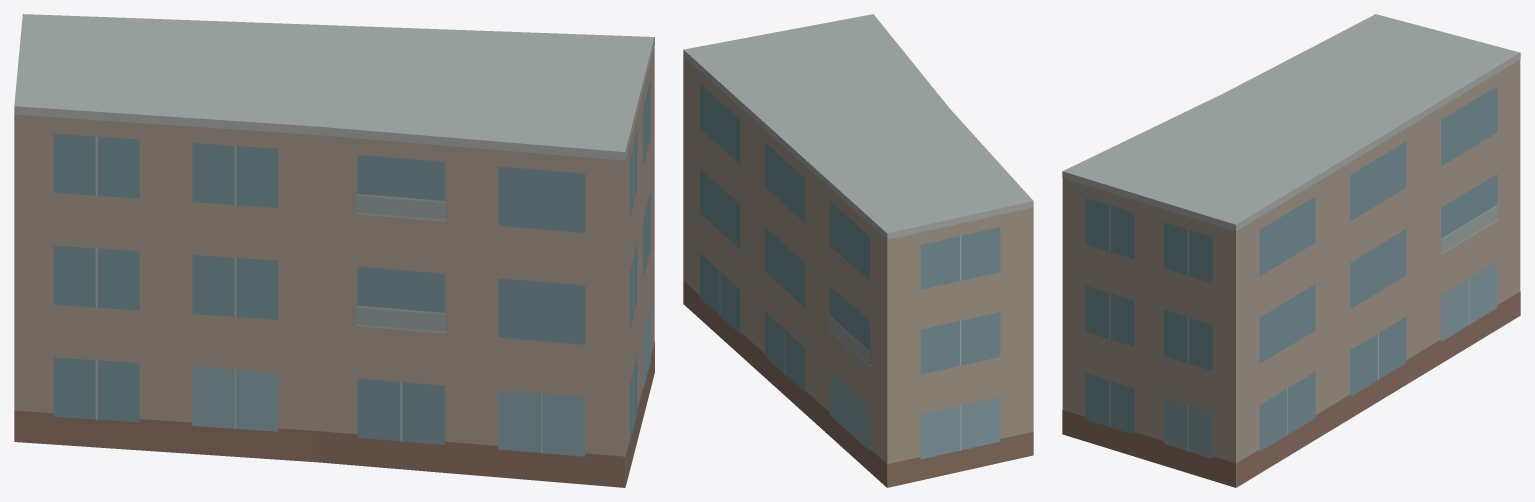
Rendered from survey-upis-32899339.glb.
3 renders of one model, left to right at view 1: azimuth 30°, elevation 25°; view 2: azimuth 150°, elevation 25°; view 3: azimuth 270°, elevation 25°, orthographic. The views are drawn at different scales.
Parts seen in each view (by area): view 1: survey-upis-32899339.tmp; view 2: survey-upis-32899339.tmp; view 3: survey-upis-32899339.tmp.
Part boxes in pixels (<box>): survey-upis-32899339.tmp: <box>14,14,654,487</box>; survey-upis-32899339.tmp: <box>683,14,1033,487</box>; survey-upis-32899339.tmp: <box>1062,14,1520,487</box>.
Size of the model in its own units: 16.68 by 9.7 by 15.31.
